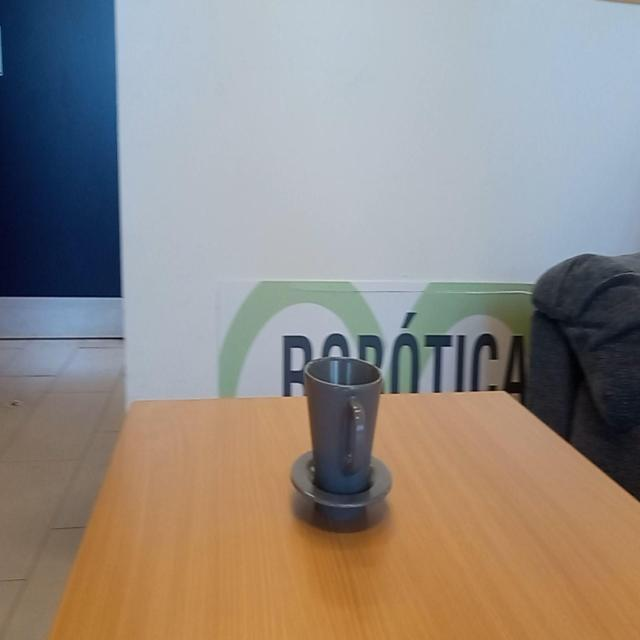cup: (287, 352, 395, 518)
